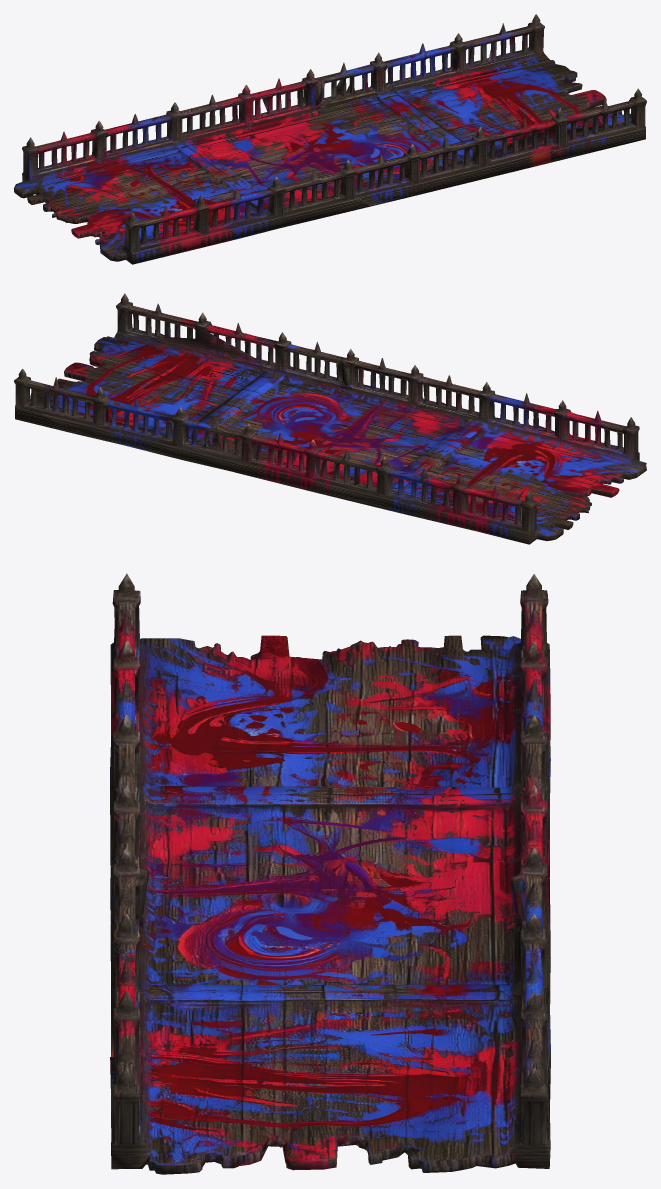
The model's file is Meshy_AI_Crimson_and_Azure_Dec_0502050939_texture.fbx.
3 renders of one model, top to bottom at view 1: azimuth 30°, elevation 25°; view 2: azimuth 150°, elevation 25°; view 3: azimuth 270°, elevation 25°, orthographic. The views are drawn at different scales.
Parts seen in each view (by area): view 1: Mesh_0; view 2: Mesh_0; view 3: Mesh_0.
Part boxes in pixels (x1=…): Mesh_0: x1=14, y1=14, x2=646, y2=264; Mesh_0: x1=14, y1=293, x2=646, y2=544; Mesh_0: x1=110, y1=573, x2=550, y2=1174.
Size of the model in its own units: 191 by 16.66 by 67.26.
1 material, 1 textured.
